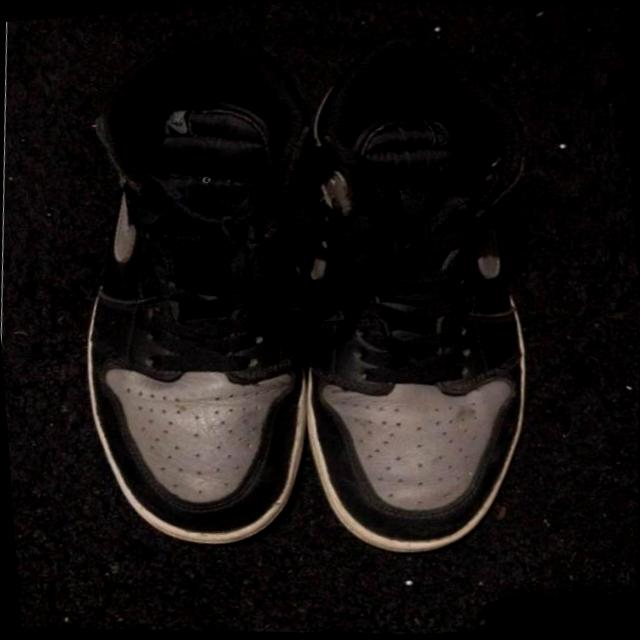nike_fake_jordan: (32, 14, 350, 566), (263, 24, 568, 574)
